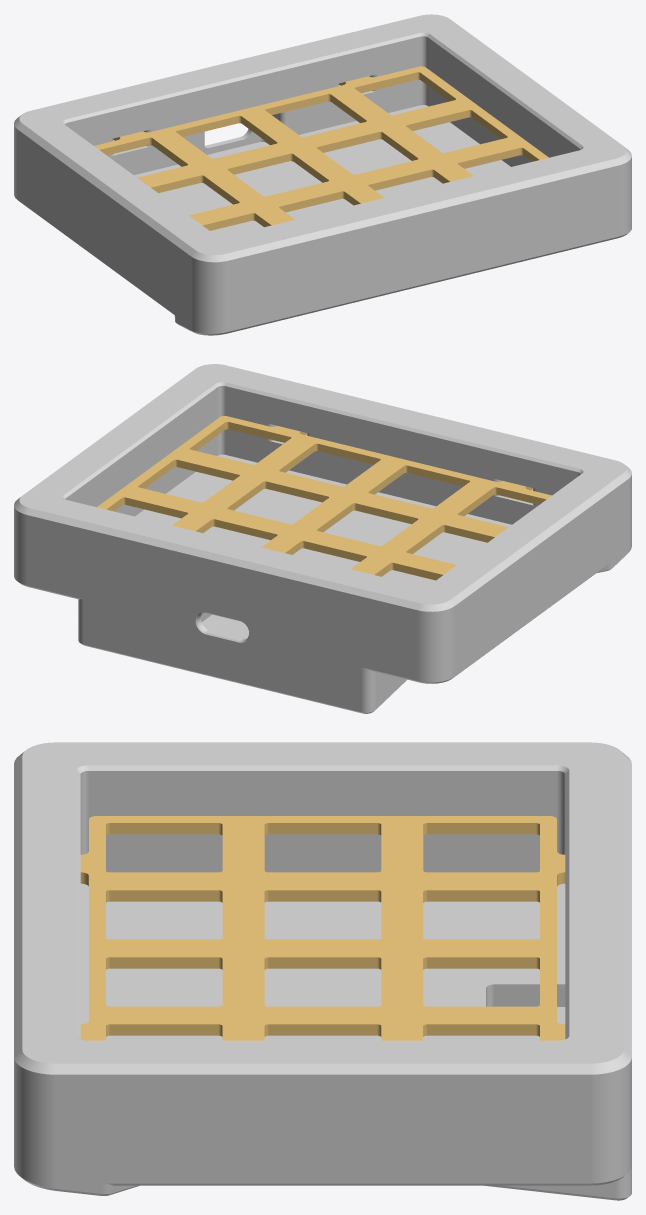
Rendered from pad.fbx.
The picture shows the model from 3 angles, top to bottom: view 1: azimuth 30°, elevation 25°; view 2: azimuth 150°, elevation 25°; view 3: azimuth 270°, elevation 25°; orthographic projection. The views are drawn at different scales.
Visible parts, largest first — view 1: Top, Bottom, Plate; view 2: Top, Bottom, Plate; view 3: Top, Bottom, Plate.
Part boxes in pixels (box(x1,y1,x2,y2)): Top: box(14, 14, 631, 294); Bottom: box(14, 79, 631, 335); Plate: box(94, 66, 548, 230); Top: box(14, 364, 631, 643); Bottom: box(14, 429, 631, 713); Plate: box(97, 416, 551, 580); Top: box(14, 742, 631, 1123); Bottom: box(14, 823, 631, 1200); Plate: box(80, 816, 565, 1040).
Bounding box in the file's own units: 93.2 × 25.04 × 74.15.
